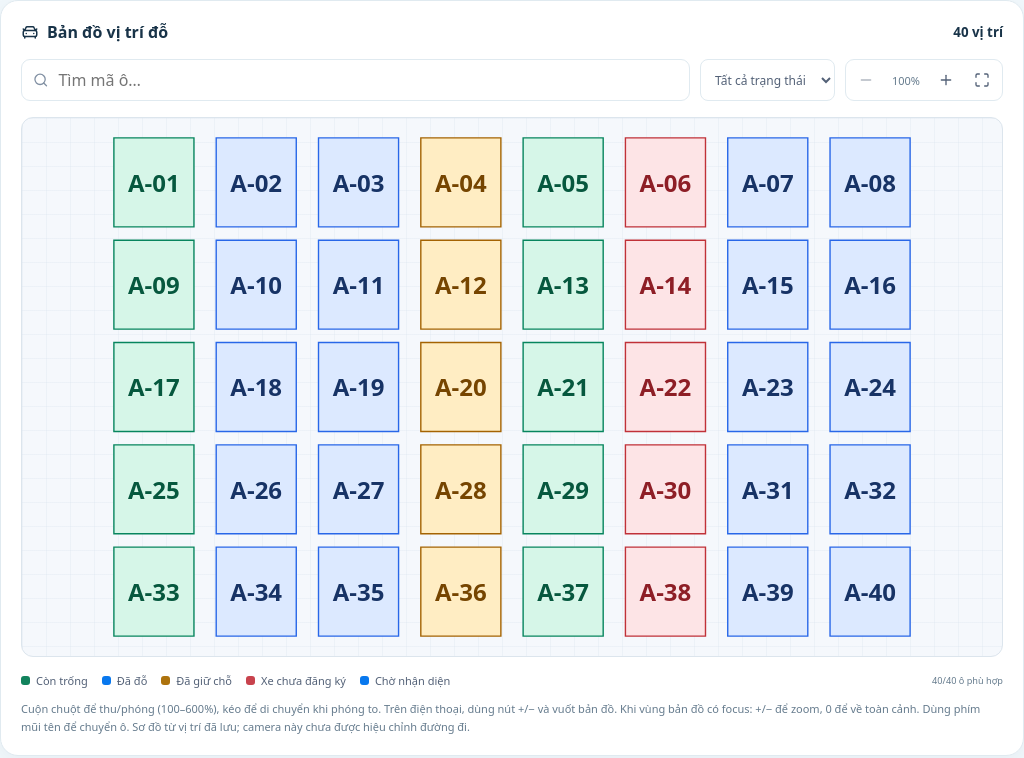
Test: parking map › keeps counts clear when no filter matches
Type "missing" into the field named "Tìm ô trên bản đồ" at (367, 80), box [56,68,678,92]
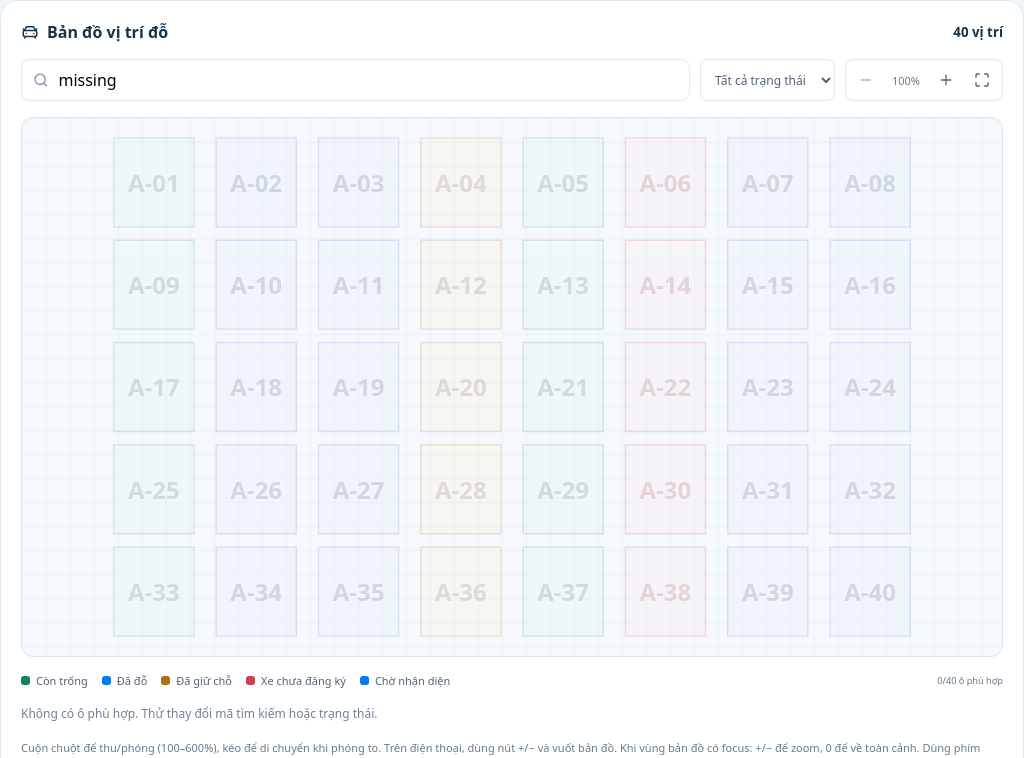
Expected: the message shows "Không có ô phù hợp", [21,705,378,722]
